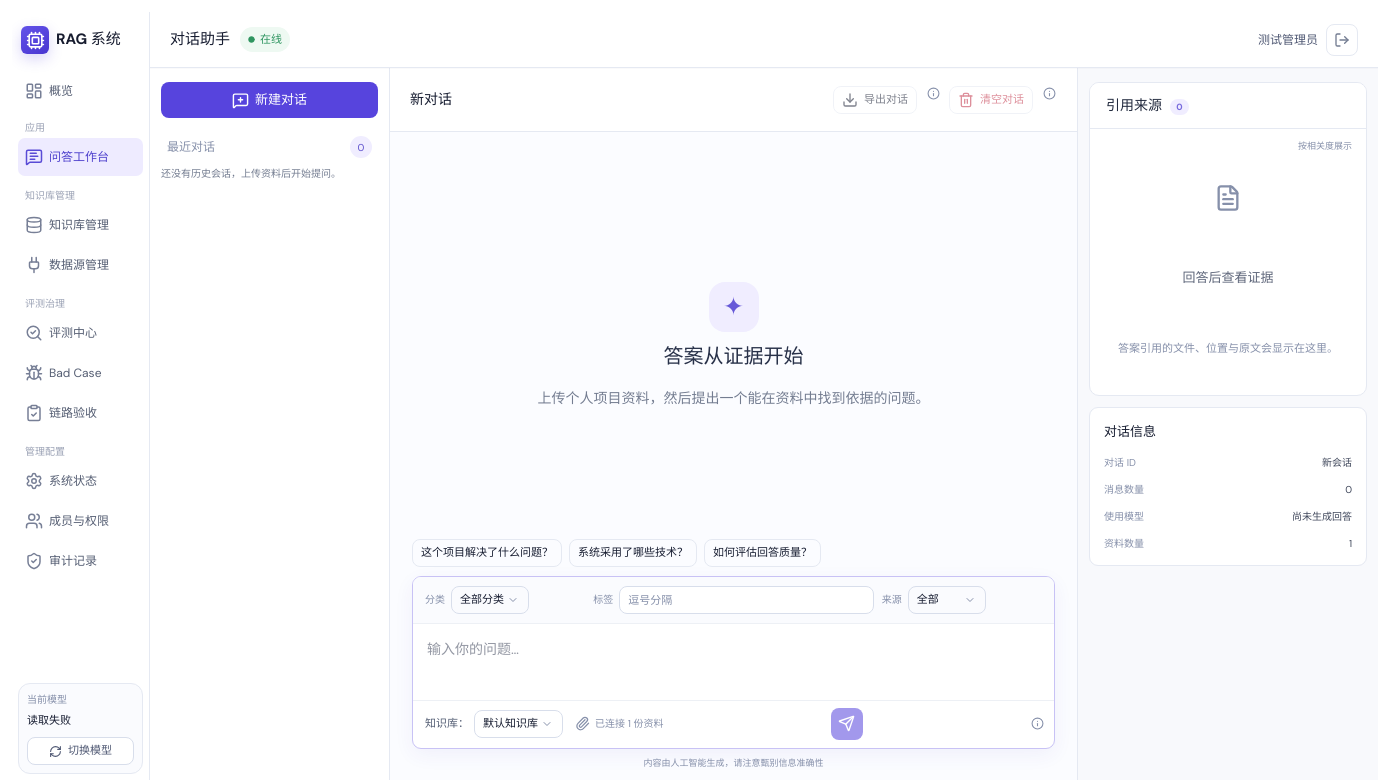
Test: 证据不足状态说明不会把降级结果伪装成答案
The width and height of the screenshot is (1378, 780).
Type "未知问题" into the text box named "向知识库提问" at (734, 658), box [413,624,1054,694]
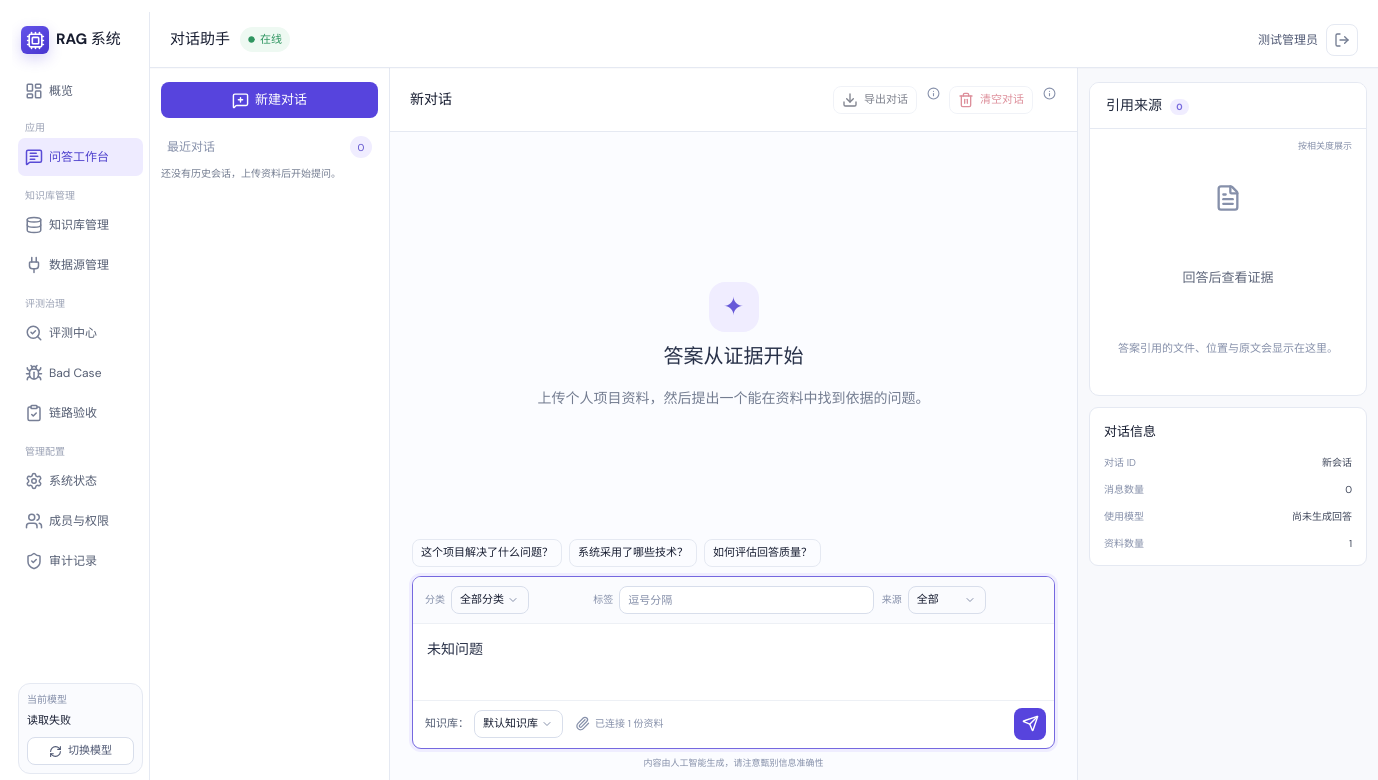
Click the button named "提问" at (1030, 724), box [1014,708,1046,740]
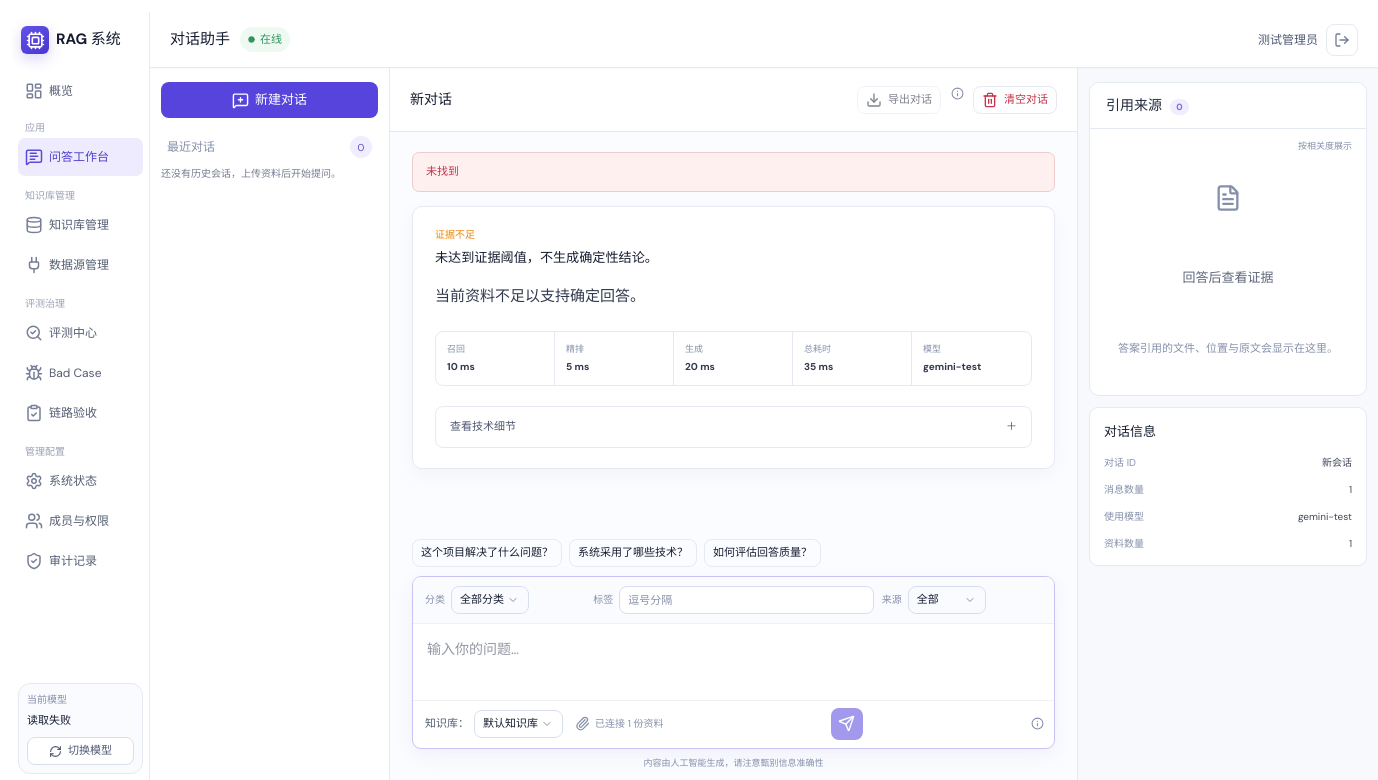
Check: the text "证据不足" is shown, box [435,228,475,241]
Check: the text "未达到证据阈值，不生成确定性结论。" is shown, box [435,249,658,266]
